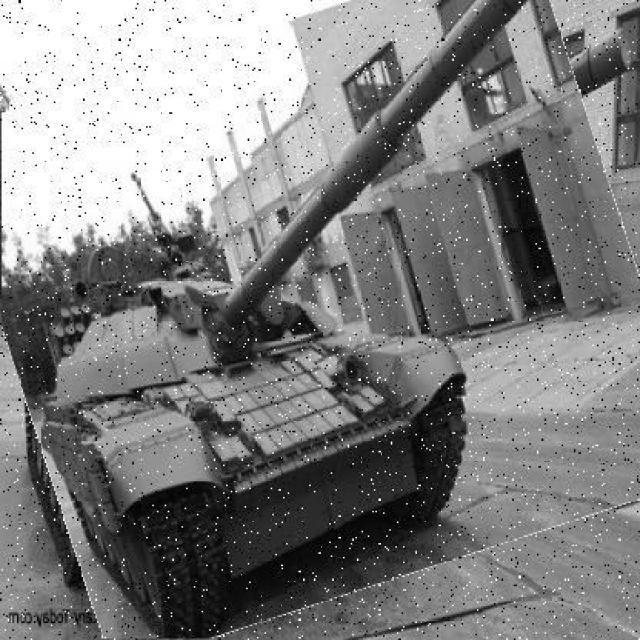Tank: (3, 1, 640, 632)
